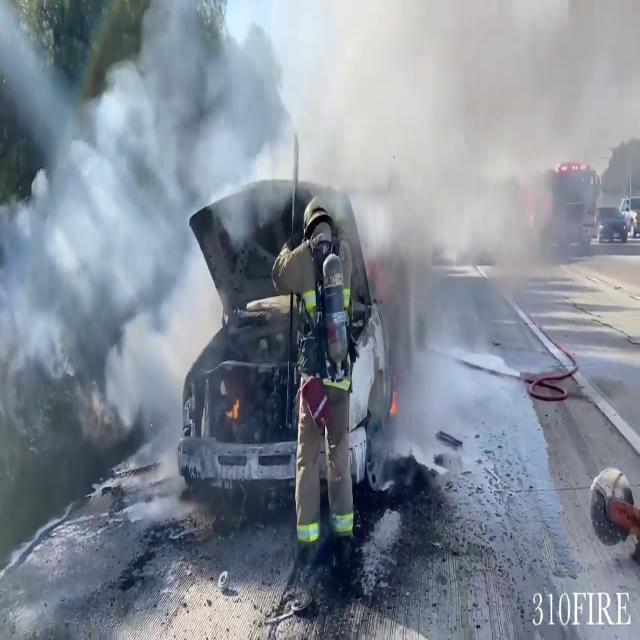Smoke: (0, 0, 612, 444)
